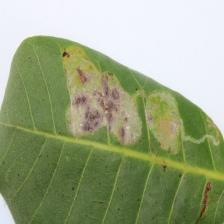leaf miner: (0, 34, 224, 224)
